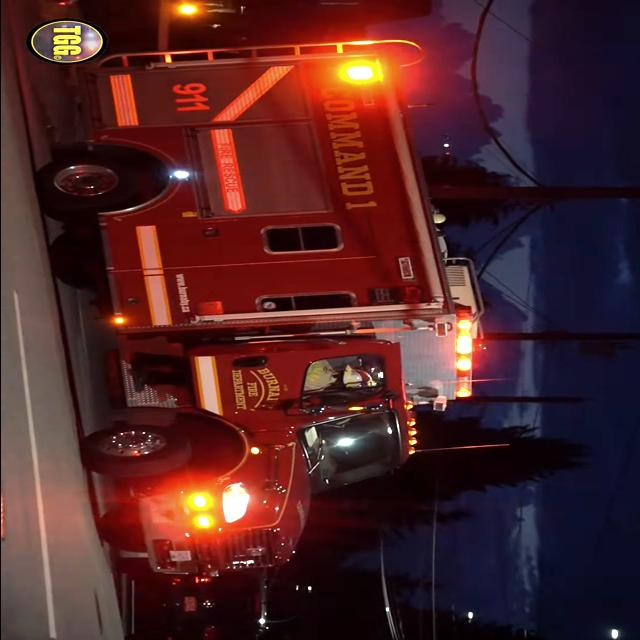emergency-vehicles: (40, 32, 500, 590)
